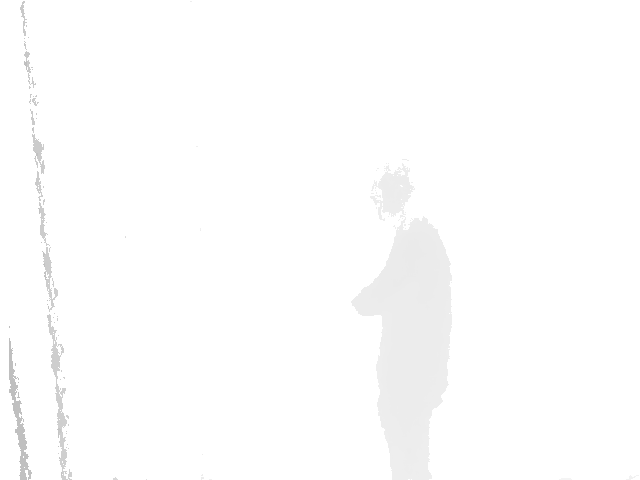head: (371, 160, 416, 220)
person: (350, 160, 456, 480)
